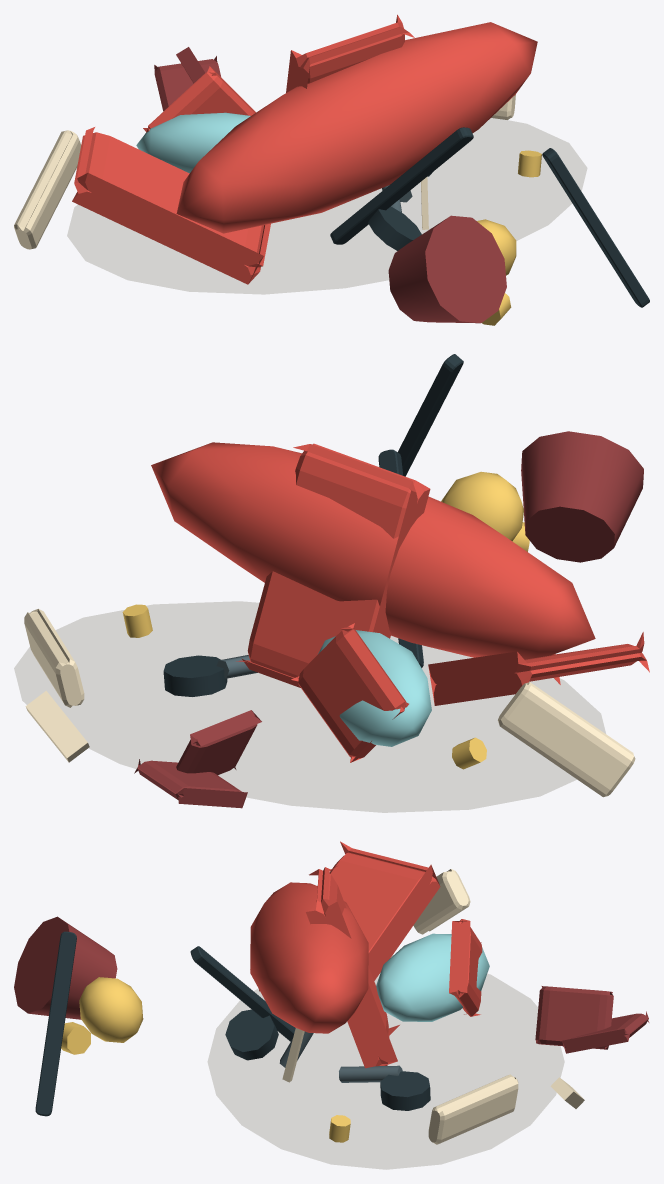
The model's file is aircraft-red-broken.glb.
The picture shows the model from 3 angles, top to bottom: view 1: azimuth 30°, elevation 25°; view 2: azimuth 150°, elevation 25°; view 3: azimuth 270°, elevation 25°; orthographic projection. The views are drawn at different scales.
Visible parts, largest first — view 1: settled-toy-pieces (×6), impact-mark; view 2: settled-toy-pieces (×6), impact-mark; view 3: settled-toy-pieces (×7), impact-mark.
Boxes of the visible parts, <box> form: settled-toy-pieces (×6): <box>14,14,649,325</box>; impact-mark: <box>67,118,586,294</box>; settled-toy-pieces (×6): <box>24,354,649,808</box>; impact-mark: <box>14,601,605,812</box>; settled-toy-pieces (×7): <box>14,841,649,1144</box>; impact-mark: <box>208,974,564,1169</box>.
Size of the model in its own units: 2.45 by 0.8552 by 2.74.
